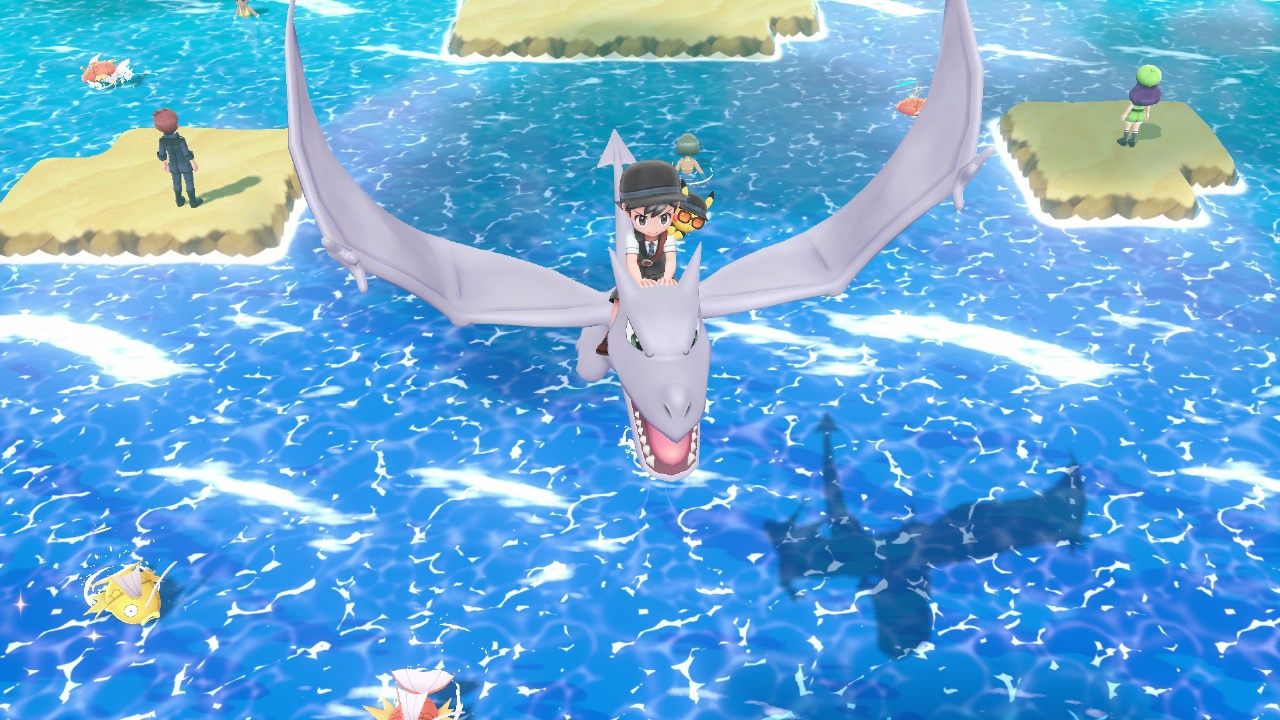Golden: (88, 567, 163, 626)
